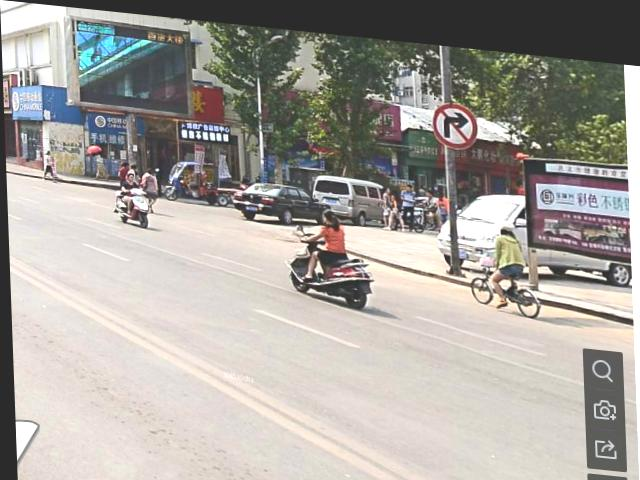not_turn_right: (428, 91, 481, 143)
